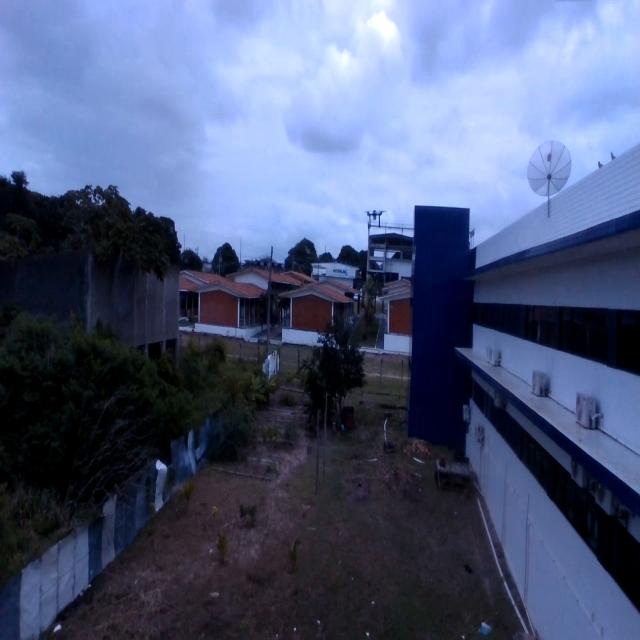-uav-: (360, 197, 389, 233)
